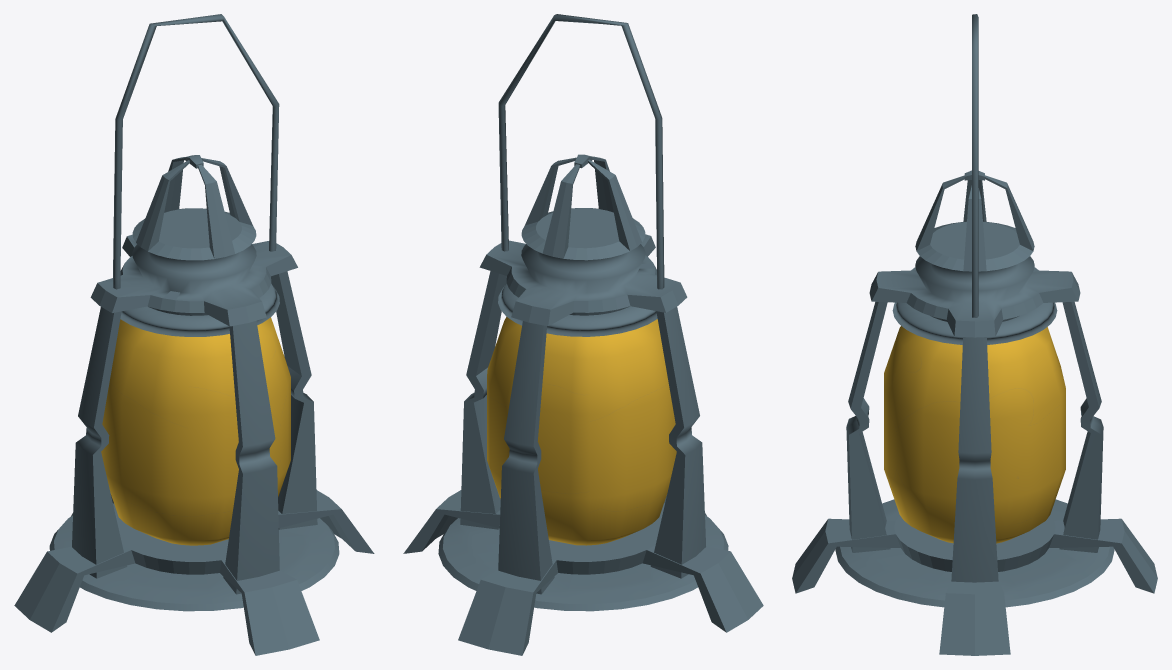
The model's file is lantern_04.fbx.
3 views of the same model, side by side, from view 1: azimuth 30°, elevation 25°; view 2: azimuth 150°, elevation 25°; view 3: azimuth 270°, elevation 25° (orthographic). The views are drawn at different scales.
Parts seen in each view (by area): view 1: lantern; view 2: lantern; view 3: lantern.
Part boxes in pixels (x1,y1,x2,y2): lantern: (14, 14, 374, 655); lantern: (403, 14, 763, 655); lantern: (792, 14, 1157, 655).
Size of the model in its own units: 0.341 by 0.5598 by 0.341.
Materials: 1 (1 with a texture image).
